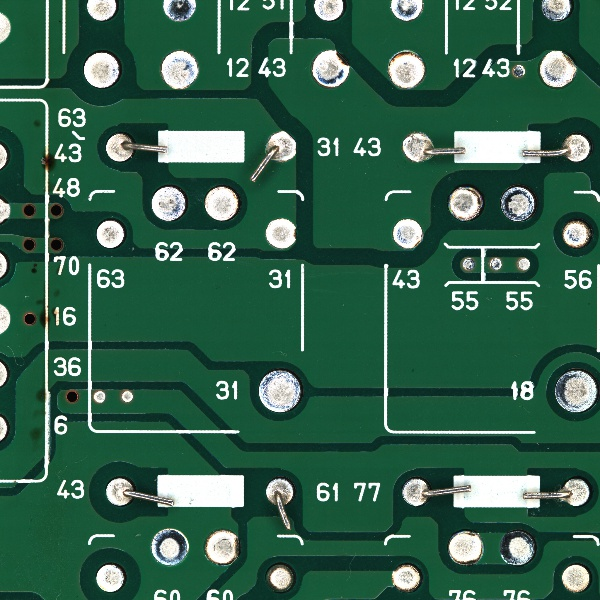Circle: (256, 366, 305, 419), (382, 45, 431, 96), (549, 367, 600, 415), (154, 46, 203, 94), (533, 46, 581, 95), (199, 523, 243, 569), (147, 523, 191, 568), (442, 526, 486, 571), (495, 525, 539, 570), (497, 179, 539, 226), (309, 46, 351, 92), (446, 180, 488, 226), (203, 182, 245, 225), (148, 182, 192, 222), (81, 49, 122, 91), (559, 126, 597, 170), (262, 472, 300, 512), (260, 129, 297, 169), (398, 129, 435, 169), (261, 215, 300, 252), (556, 475, 595, 512), (398, 471, 436, 508), (557, 215, 593, 254), (388, 214, 423, 253), (100, 128, 138, 163), (101, 473, 138, 508), (92, 215, 128, 250), (263, 560, 296, 594), (560, 562, 593, 595), (94, 561, 126, 595), (389, 560, 421, 594)
